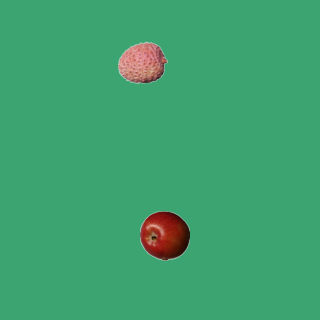Apple Braeburn: (139, 210, 189, 260)
Lychee: (117, 37, 167, 87)
